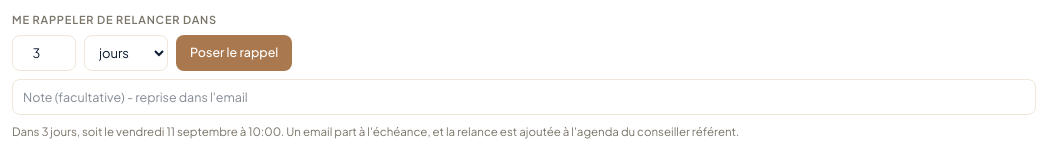
Test: RappelForm › suit le changement d'unité
Step 1. Select "heures" in the dropdown named "Unité" → (126, 52), box top-left (84, 34), bottom-right (168, 70)
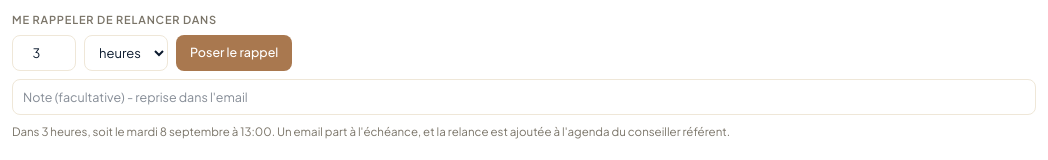
Check: the text "Dans 3 heures" is shown, box top-left (12, 124), bottom-right (730, 138)
Check: the text "13:00" is shown, box top-left (127, 124), bottom-right (272, 138)
